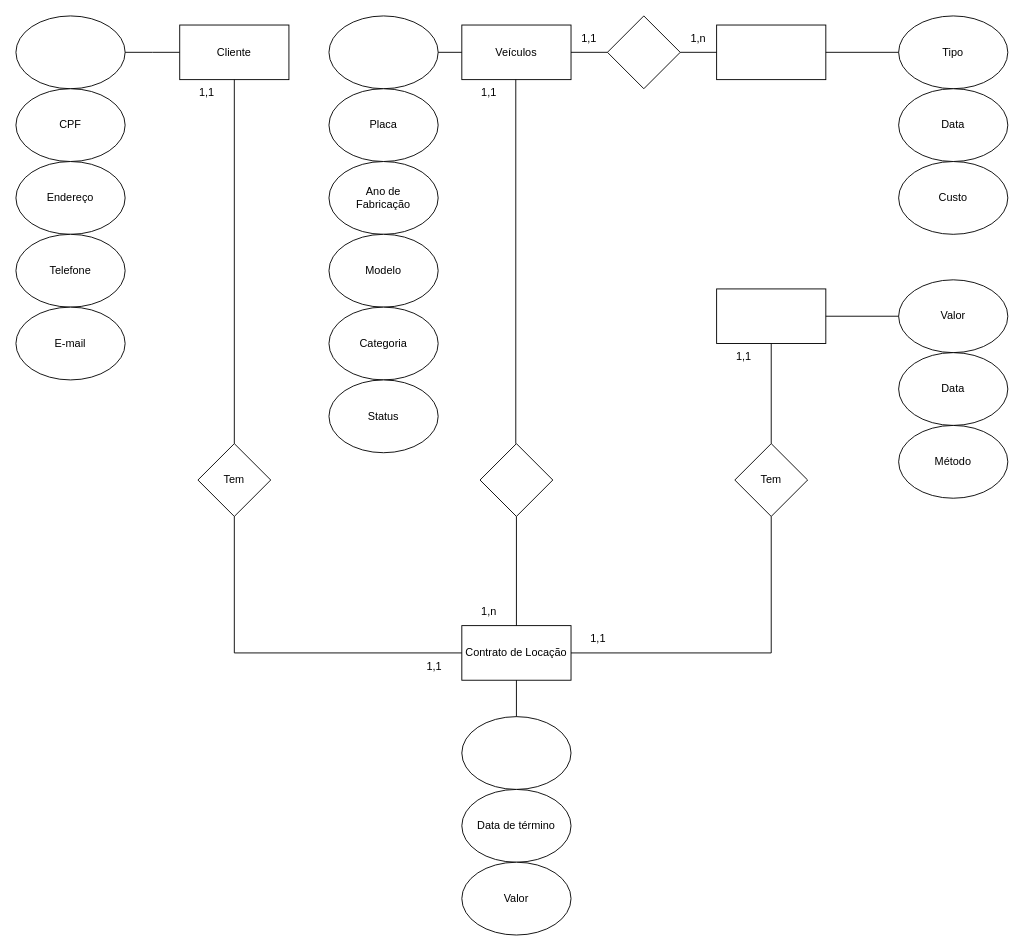
This 1024x951 diagram has some shape labels left out. Each missing label, with the centre of its shape:
Contem: [643,52]
Contém: [516,479]
Data de início: [516,752]
Manutenção: [771,52]
Marca: [383,52]
Nome: [70,52]
Pagamento: [771,316]
